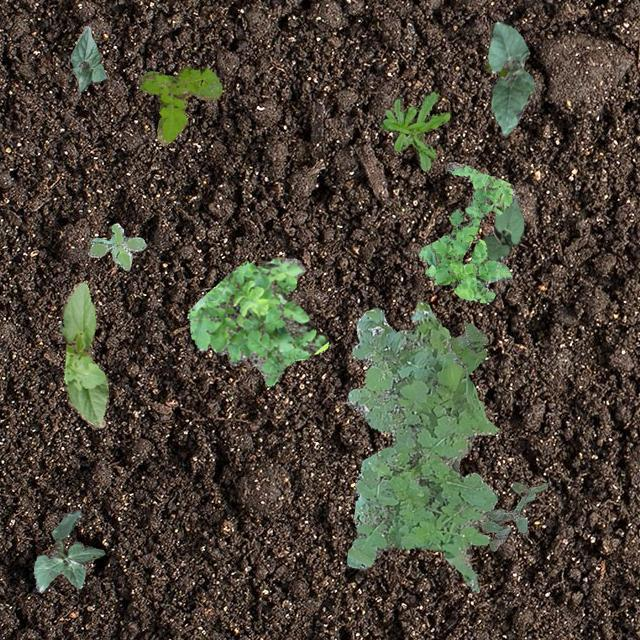crop: (58, 280, 108, 428), (32, 509, 104, 592), (486, 20, 534, 134), (481, 194, 524, 260), (70, 24, 106, 90)
weed: (344, 300, 498, 592), (186, 256, 328, 384), (418, 160, 514, 302), (138, 65, 222, 144), (380, 90, 450, 170), (479, 480, 547, 550), (86, 222, 146, 268), (450, 322, 488, 372), (484, 60, 510, 78)
